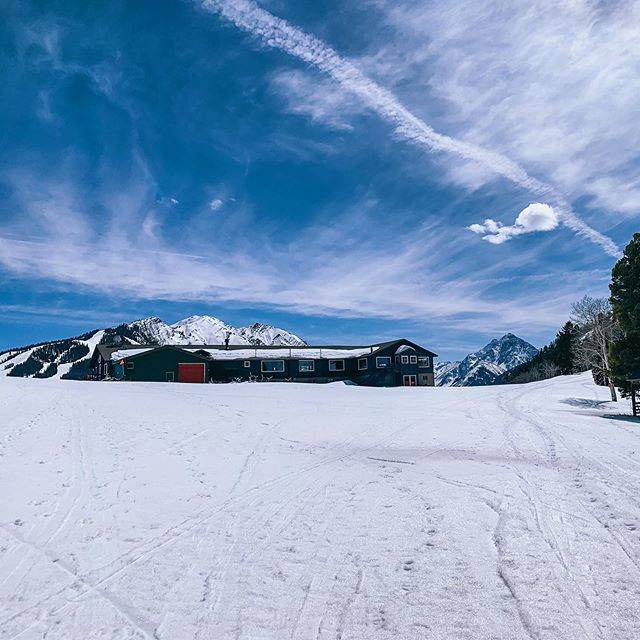building: (110, 330, 435, 387)
mountain: (34, 291, 314, 378), (427, 310, 551, 385)
sky: (1, 1, 618, 295)
